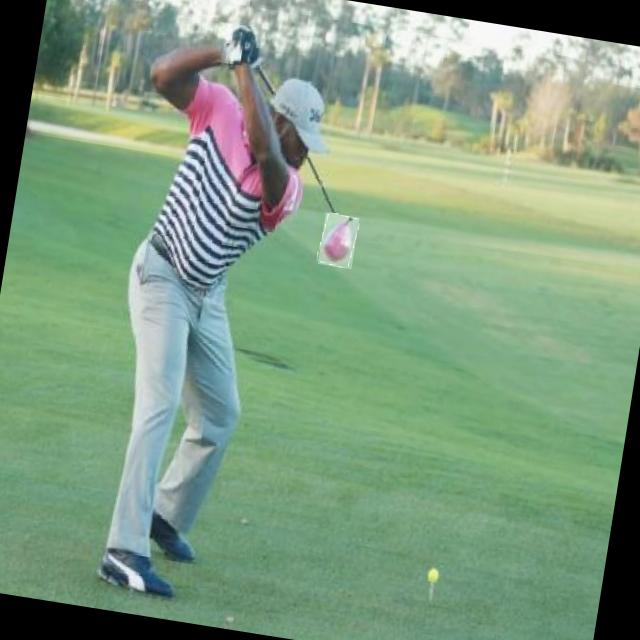club head: (318, 212, 360, 270)
